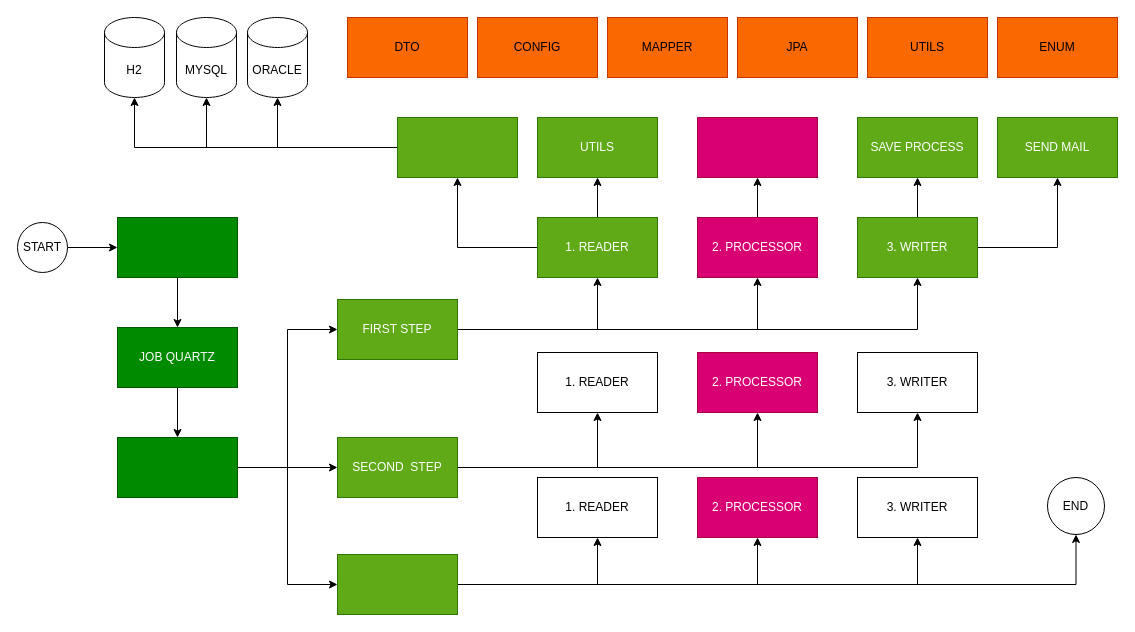
Image size: 1135x632. Some labels were removed from this diagram. The box of each missing label's shape, as (x1, y1, x2, y2) in pixels:
DATASOURCE: (396, 116, 518, 178)
JOB CONFIG: (116, 436, 238, 498)
SCHEDULER: (116, 216, 238, 278)
THIRD STEP: (336, 554, 458, 614)
VALIDATION PROCESSOR: (696, 116, 818, 178)
